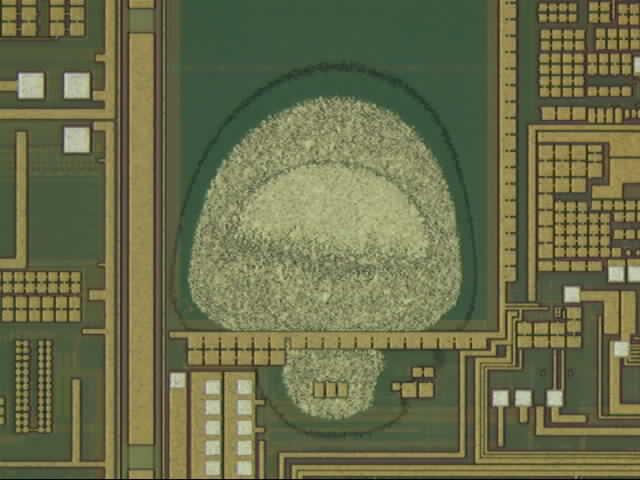BLOCK ETCH: (169, 61, 481, 444)
